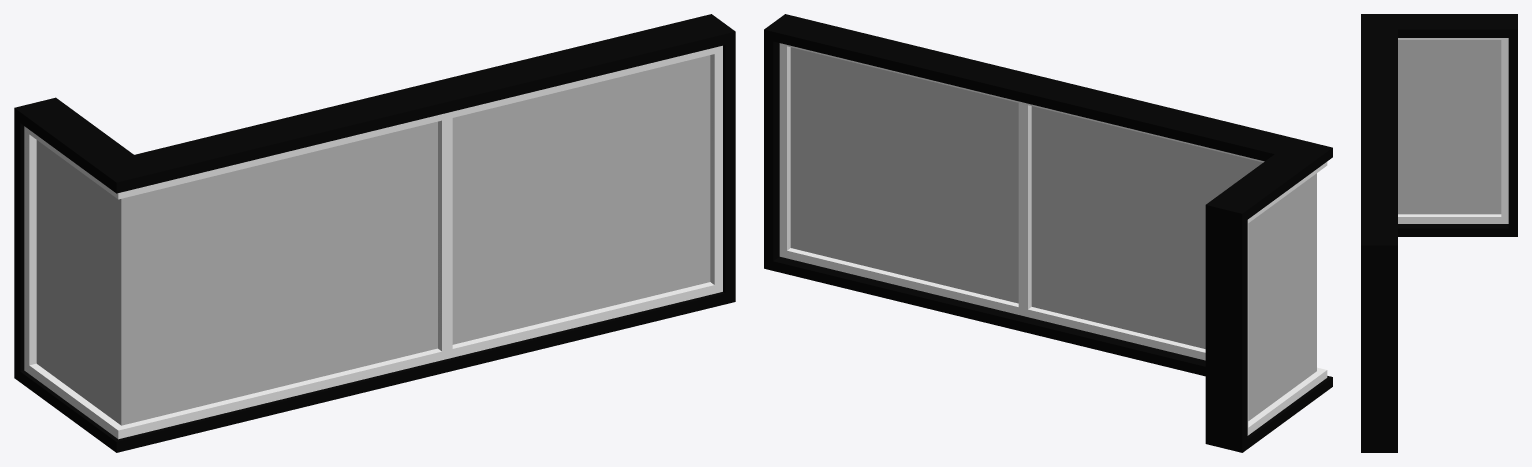
The model's file is wxB31.fbx.
3 renders of one model, left to right at view 1: azimuth 30°, elevation 25°; view 2: azimuth 150°, elevation 25°; view 3: azimuth 270°, elevation 25°, orthographic. The views are drawn at different scales.
Parts seen in each view (by area): view 1: glass, i; view 2: glass, i; view 3: i, glass.
Boxes of the visible parts, x1,y1,x2,y2 form: glass: (36, 55, 710, 425); i: (14, 14, 735, 452); glass: (790, 47, 1316, 420); i: (764, 14, 1332, 452); i: (1361, 14, 1517, 452); glass: (1398, 40, 1501, 214).
Bounding box in the file's own units: 29.7 × 12.39 × 8.5.
